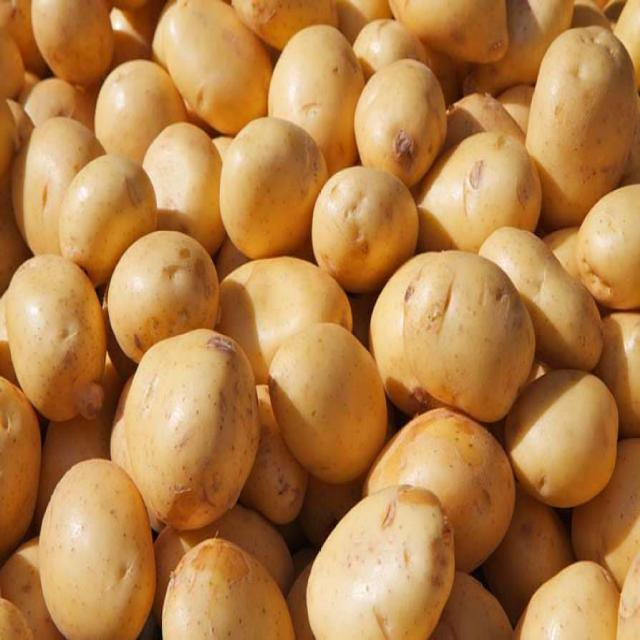potato: (371, 247, 535, 431), (126, 334, 264, 532), (366, 404, 516, 586), (287, 498, 454, 640), (266, 325, 390, 493), (531, 30, 632, 226), (40, 468, 154, 640), (10, 254, 108, 428), (153, 1, 274, 138), (504, 371, 622, 509), (419, 133, 542, 263), (223, 118, 331, 265), (109, 232, 227, 365), (156, 543, 296, 640), (11, 122, 106, 258), (316, 172, 419, 291), (269, 30, 361, 163), (358, 62, 448, 191), (63, 160, 157, 282), (143, 127, 228, 260), (100, 62, 185, 164), (26, 1, 114, 91)
